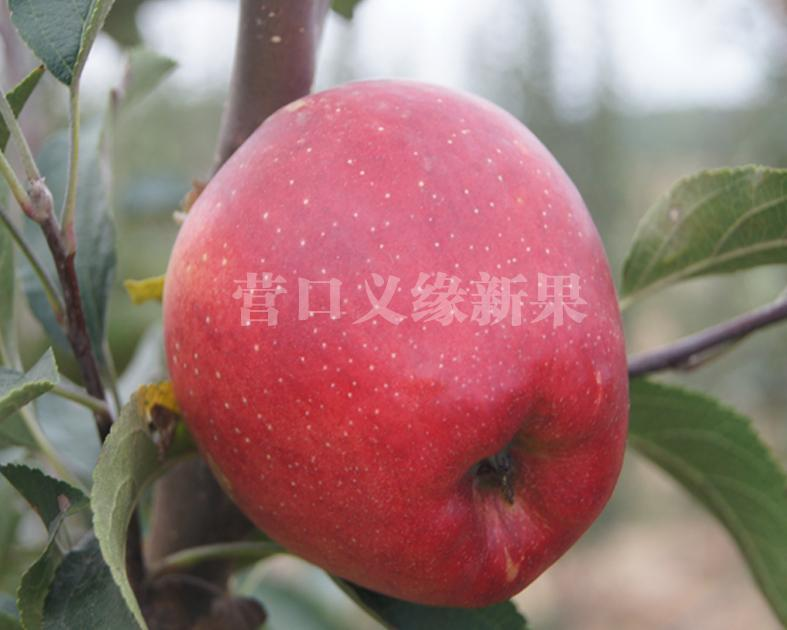apple: (148, 81, 636, 610)
